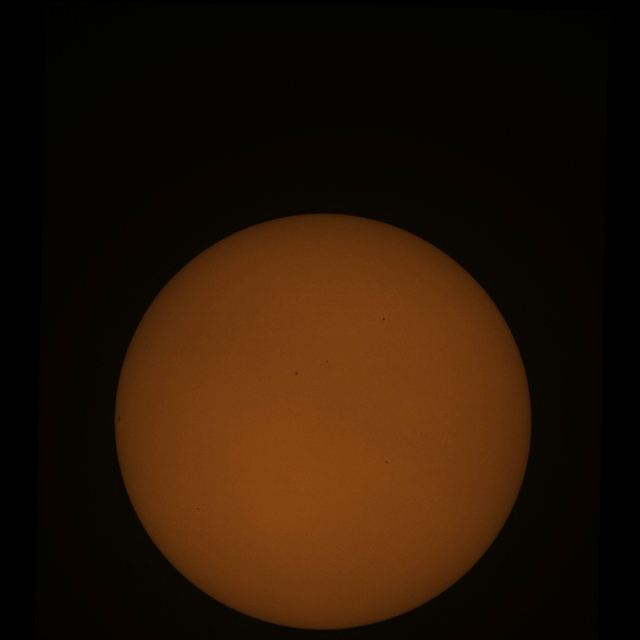sunspot: (381, 316, 388, 322), (117, 415, 122, 423), (195, 506, 200, 512), (294, 371, 300, 376), (385, 460, 389, 465)
